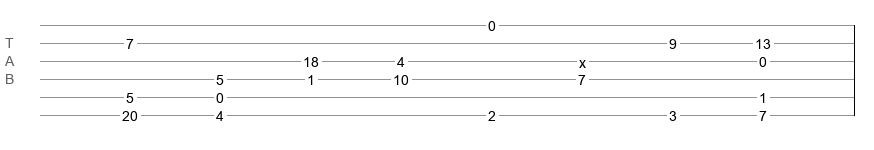0: (216, 90, 224, 100), (488, 18, 496, 28), (759, 54, 767, 64)
1: (307, 72, 315, 82), (759, 90, 767, 100)
10: (393, 72, 409, 82)
13: (755, 36, 771, 46)
18: (303, 54, 319, 64)
2: (488, 108, 496, 118)
20: (122, 108, 138, 118)
3: (669, 108, 677, 118)
4: (216, 108, 224, 118), (397, 54, 405, 64)
5: (126, 90, 134, 100), (216, 72, 224, 82)
7: (126, 36, 134, 46), (578, 72, 586, 82), (759, 108, 767, 118)
9: (669, 36, 677, 46)
x: (579, 55, 586, 63)
